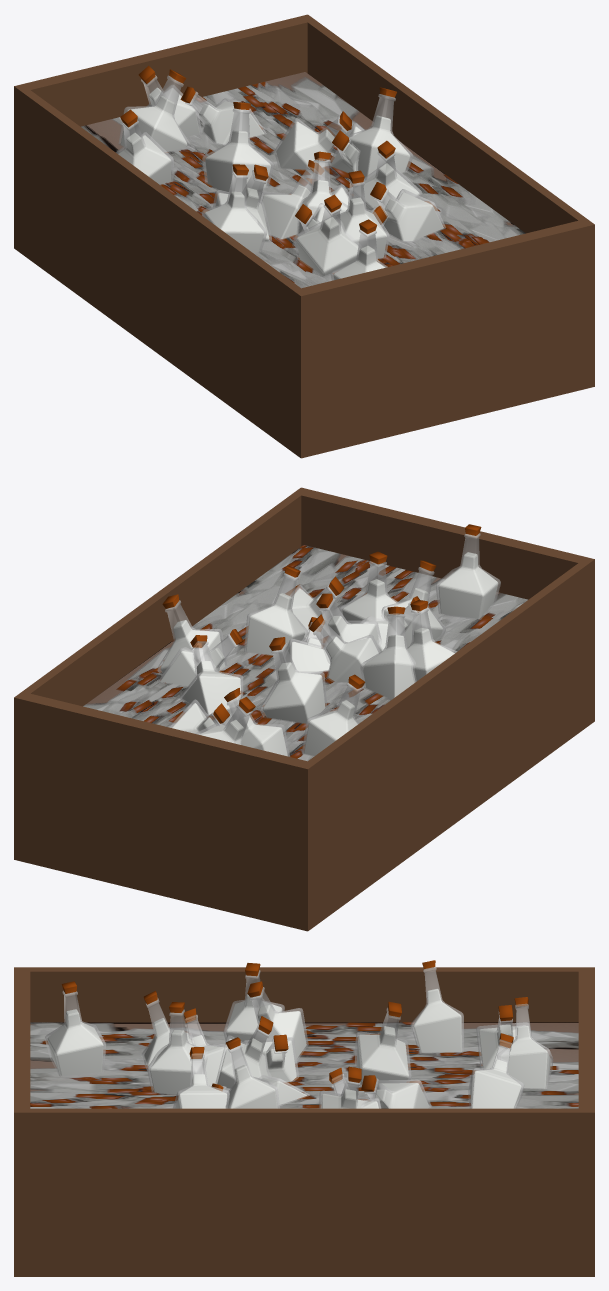
File: BottleSpawnCrate.fbx
3 renders of one model, top to bottom at view 1: azimuth 30°, elevation 25°; view 2: azimuth 150°, elevation 25°; view 3: azimuth 270°, elevation 25°, orthographic.
Visible parts, largest first — view 1: Base.001, Plane, BottleBackground; view 2: Base.001, Plane, BottleBackground, Bottle.001; view 3: Base.001, Plane, BottleBackground, Bottle.001.
Part boxes in pixels (x1=…): Base.001: x1=14, y1=14, x2=594, y2=458; Plane: x1=116, y1=65, x2=445, y2=280; BottleBackground: x1=81, y1=72, x2=525, y2=288; Base.001: x1=14, y1=487, x2=594, y2=931; Plane: x1=157, y1=524, x2=500, y2=756; BottleBackground: x1=83, y1=545, x2=527, y2=761; Bottle.001: x1=285, y1=617, x2=330, y2=673; Base.001: x1=14, y1=967, x2=594, y2=1276; Plane: x1=45, y1=960, x2=553, y2=1108; BottleBackground: x1=30, y1=1022, x2=578, y2=1108; Bottle.001: x1=211, y1=1075, x2=309, y2=1105.
Size of the model in its own units: 118 by 74.02 by 200.
